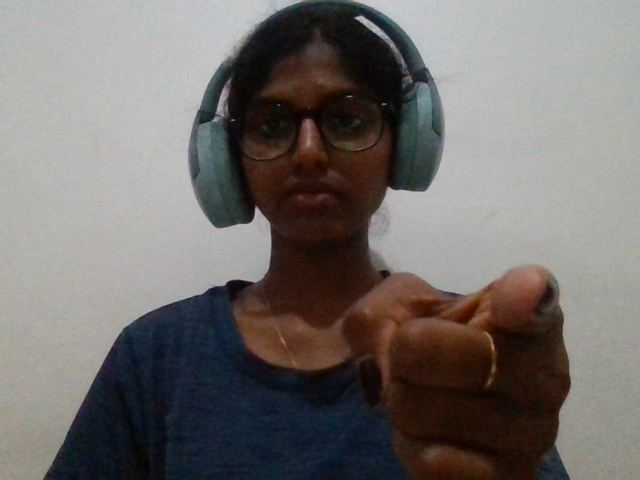You: (311, 226, 606, 480)
